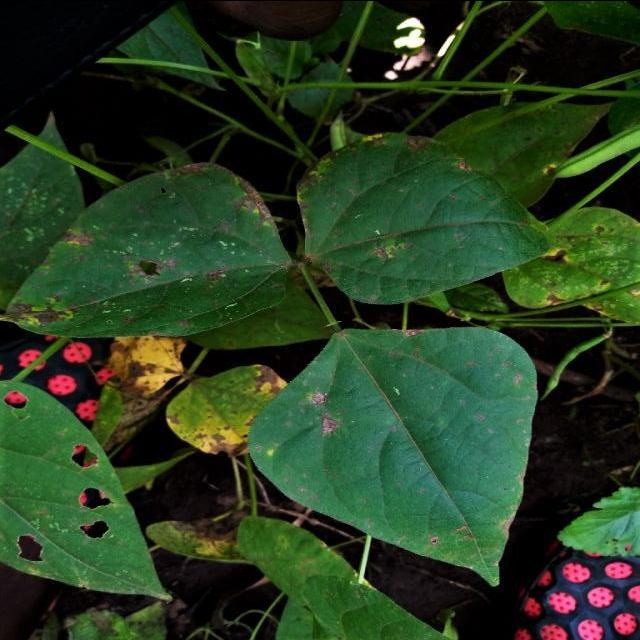mozaik: (0, 183, 268, 640)
